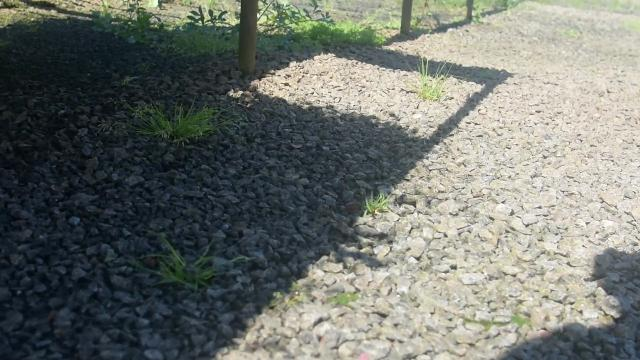MalezaMontesDelPlata: (132, 231, 261, 294), (96, 98, 242, 146), (160, 0, 241, 49), (399, 50, 472, 103), (270, 18, 392, 47), (91, 0, 162, 42), (342, 184, 403, 220)
